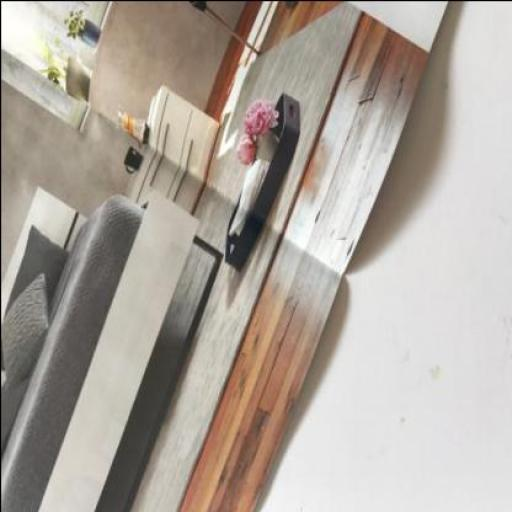paper: (1, 1, 448, 511)
